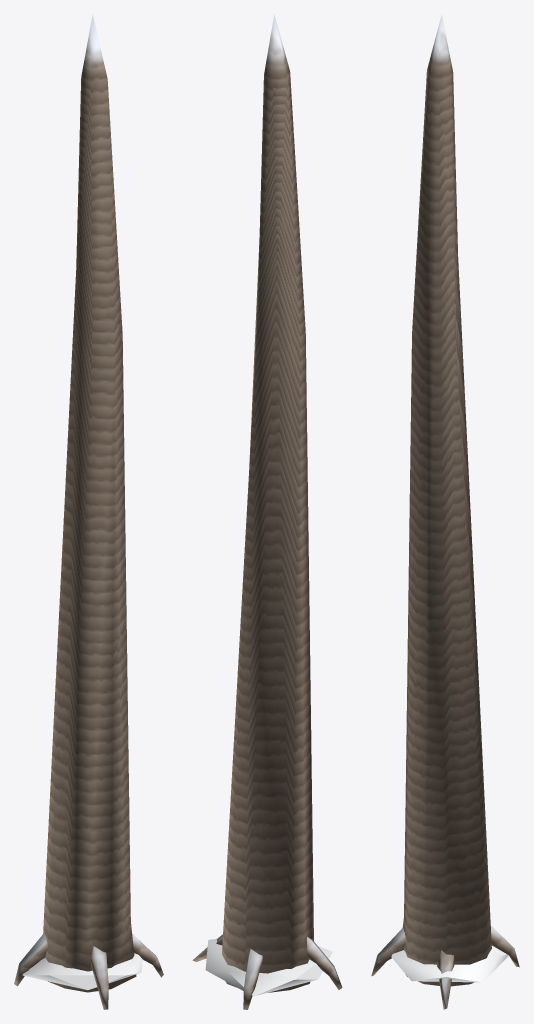
Rendered from pine_snow_trunk_lod1.gltf.
3 views of the same model, side by side, from view 1: azimuth 90°, elevation 25°; view 2: azimuth 150°, elevation 25°; view 3: azimuth 270°, elevation 25° (orthographic).
Parts seen in each view (by area): view 1: pine_snow_trunk_LOD1; view 2: pine_snow_trunk_LOD1; view 3: pine_snow_trunk_LOD1.
Part boxes in pixels (x1=…): pine_snow_trunk_LOD1: x1=14, y1=14, x2=163, y2=1009; pine_snow_trunk_LOD1: x1=192, y1=14, x2=342, y2=1009; pine_snow_trunk_LOD1: x1=371, y1=14, x2=519, y2=1009.
Bounding box in the file's own units: 1.4 × 9.27 × 1.3.
1 material, 1 textured.
